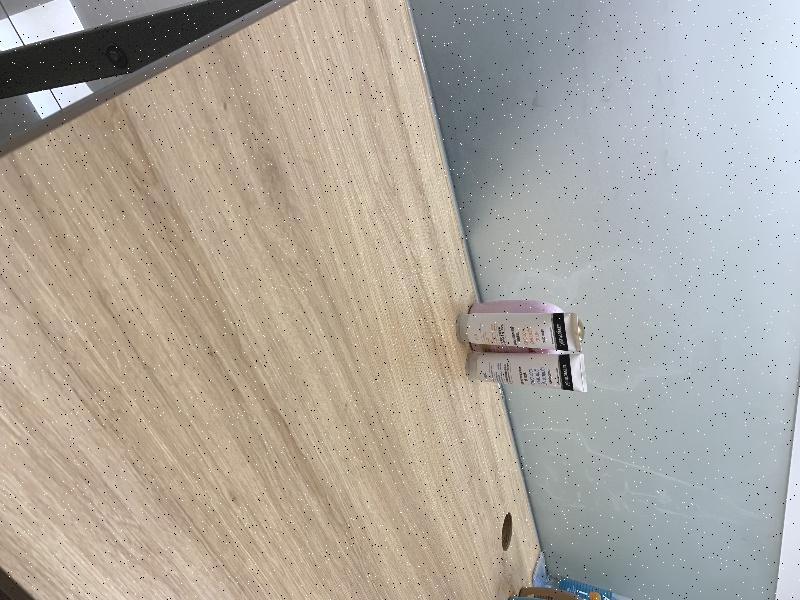AcneFoamingCleanser: (456, 313, 582, 352)
HydratingFoamingCleanser: (465, 352, 587, 393)
